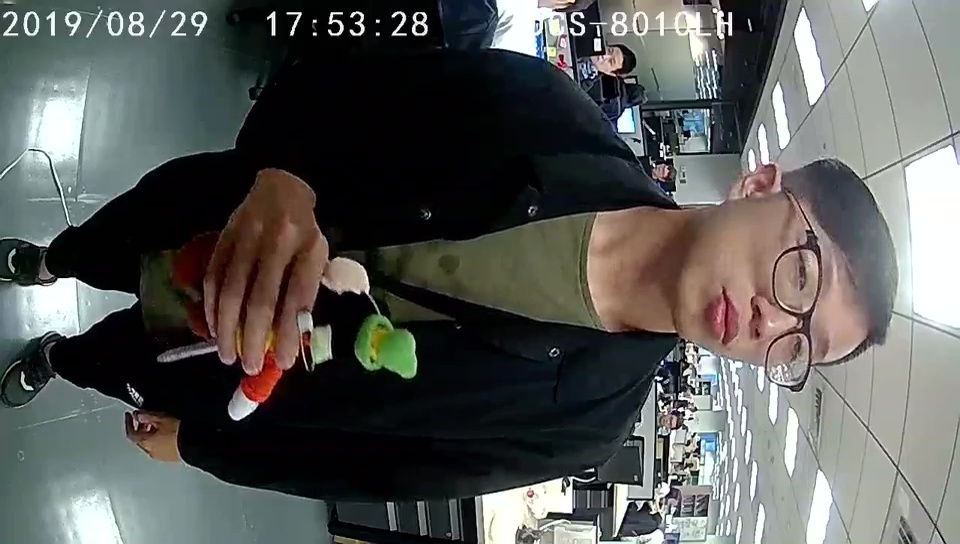goofy: (225, 256, 419, 422)
